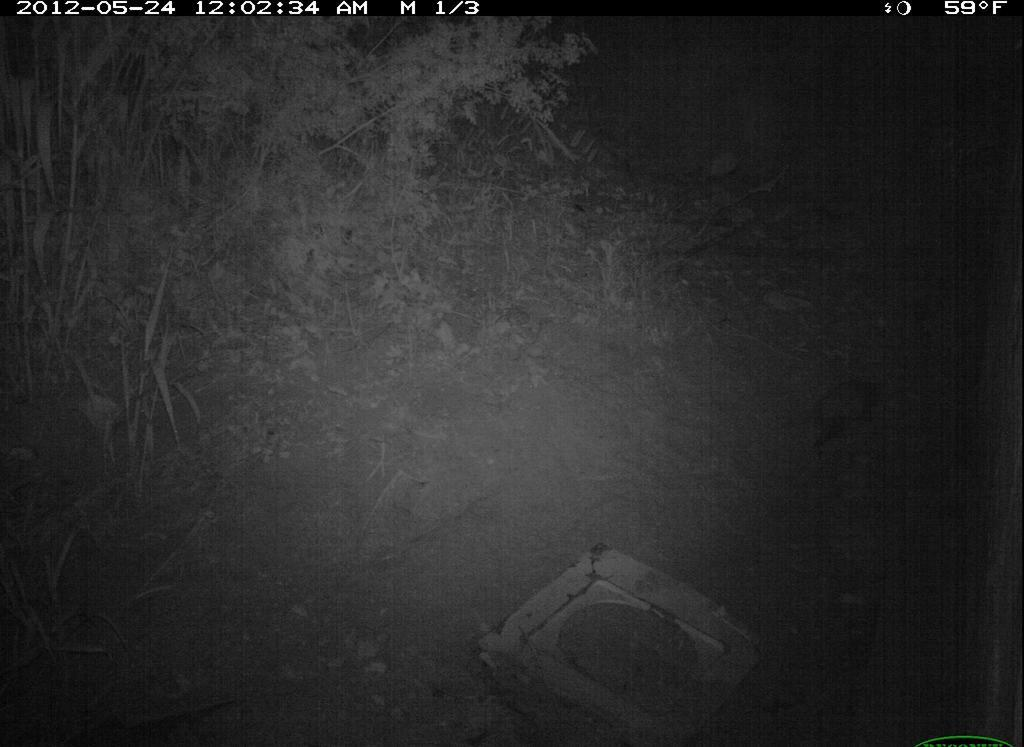opossum: (801, 371, 890, 458)
